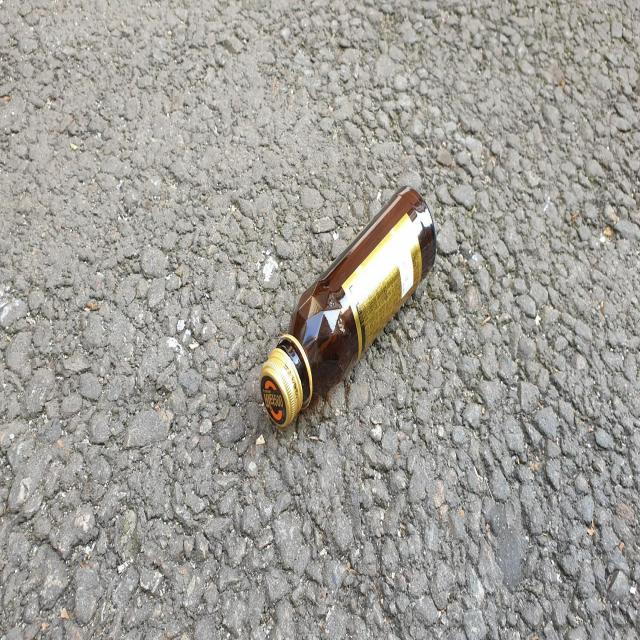glass: (260, 185, 437, 427)
